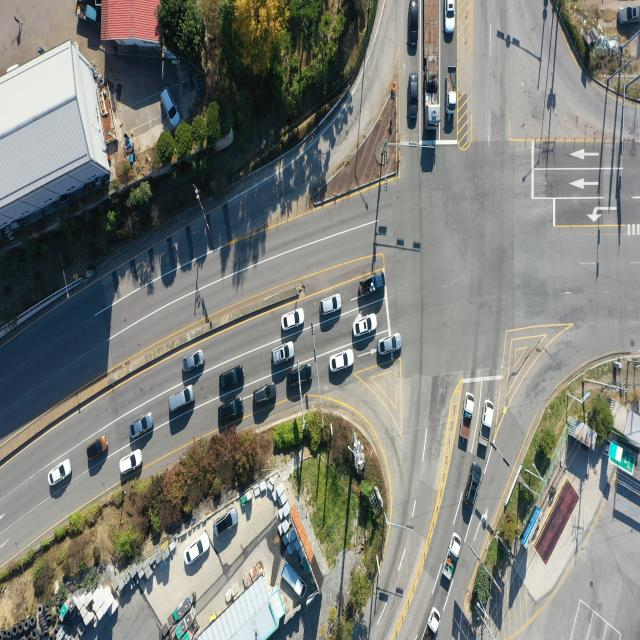car: (184, 529, 210, 568), (466, 464, 484, 512), (160, 89, 180, 131), (168, 384, 196, 414), (49, 458, 73, 486), (130, 413, 154, 440), (214, 511, 237, 538), (221, 365, 246, 389), (353, 313, 377, 337), (330, 350, 355, 373), (219, 398, 245, 420), (120, 450, 142, 475), (272, 343, 296, 365), (378, 335, 402, 357), (252, 383, 276, 405), (408, 0, 419, 48), (281, 309, 303, 332), (182, 350, 205, 372), (617, 4, 640, 26), (408, 72, 418, 122), (87, 438, 109, 460), (289, 364, 312, 384), (320, 296, 341, 316), (446, 0, 456, 33)
large_truck: (421, 0, 440, 127)
small_truck: (441, 533, 461, 585), (281, 563, 306, 599), (479, 399, 496, 448), (359, 271, 386, 296), (74, 0, 98, 27), (445, 66, 456, 114), (462, 394, 472, 441), (428, 604, 442, 635)
